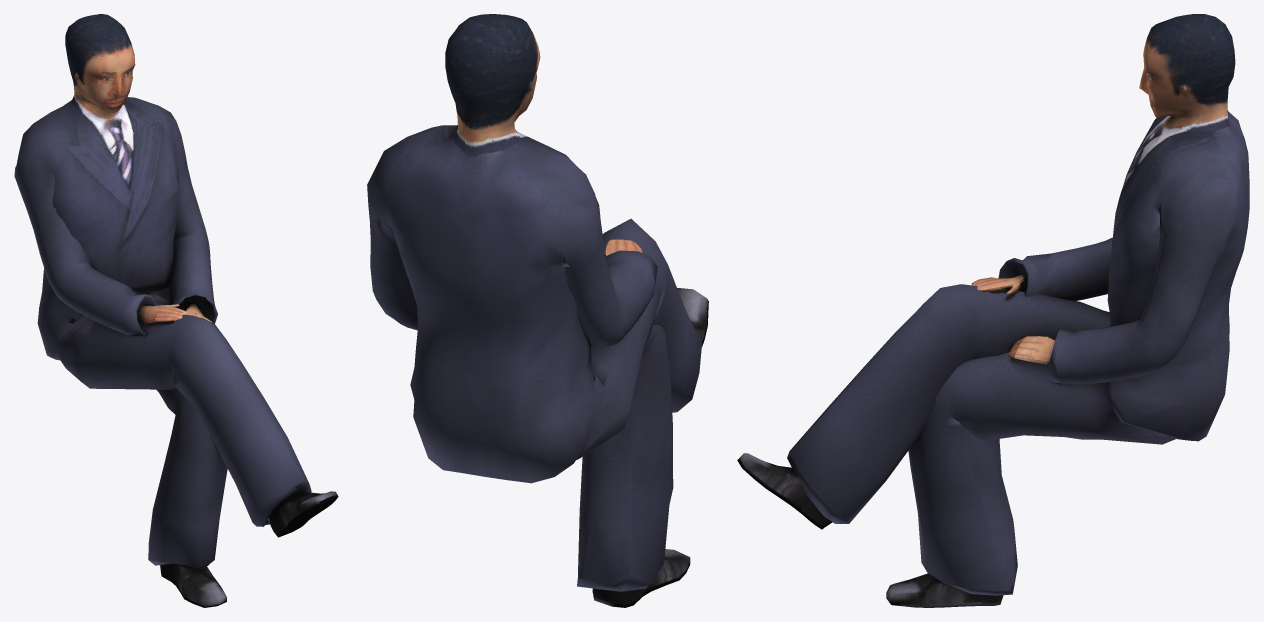
The model's file is BoySitter3.FBX.
3 views of the same model, side by side, from view 1: azimuth 30°, elevation 25°; view 2: azimuth 150°, elevation 25°; view 3: azimuth 270°, elevation 25° (orthographic). The views are drawn at different scales.
Visible parts, largest first — view 1: SBP_02_02; view 2: SBP_02_02; view 3: SBP_02_02.
Boxes of the visible parts, <box> form: SBP_02_02: <box>14,14,338,607</box>; SBP_02_02: <box>367,14,708,607</box>; SBP_02_02: <box>737,14,1249,607</box>.
Bounding box in the file's own units: 19.43 × 52.42 × 41.48.
1 material, 1 textured.
